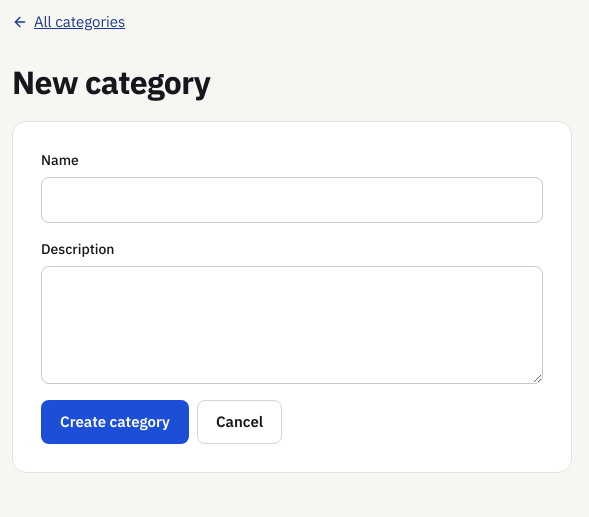
Test: Admin categories › puts a duplicate name next to the name field
The image size is (589, 517).
Type "kitchen" into the field labelled "Name".
click(292, 200); type("kitchen")  # box [41, 177, 543, 223]
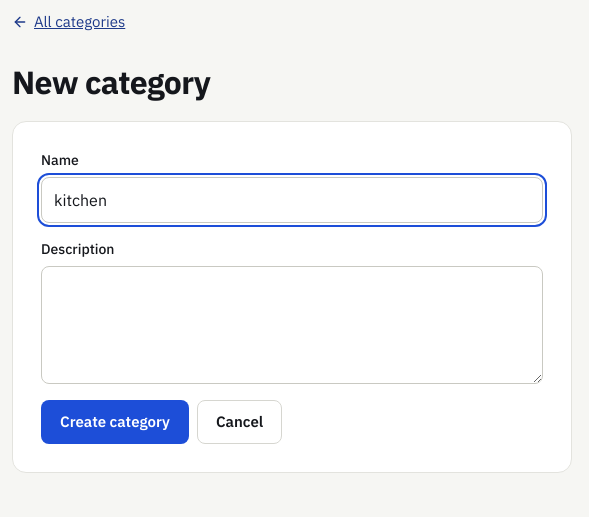
Click the button "Create category".
click(115, 422)  # box [41, 400, 189, 444]
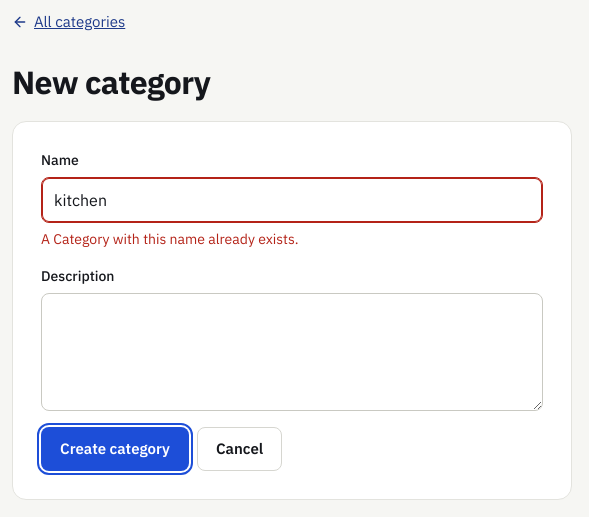
Now the text "A Category with this name already exists." is shown, box [41, 230, 298, 248]
